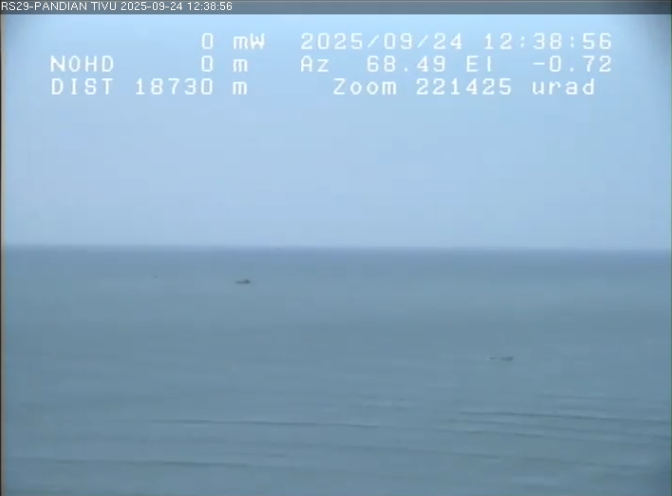FISHING_BOAT: (223, 269, 257, 292), (481, 348, 524, 364)
